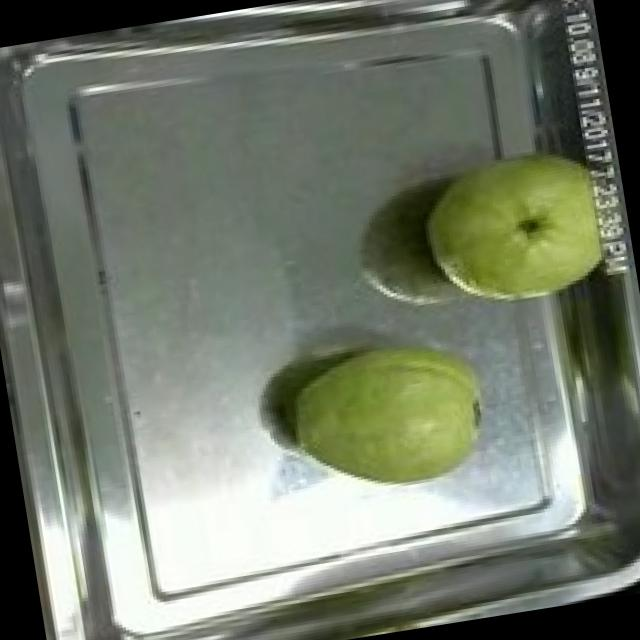Fruit: (270, 318, 508, 514), (406, 128, 636, 324)
